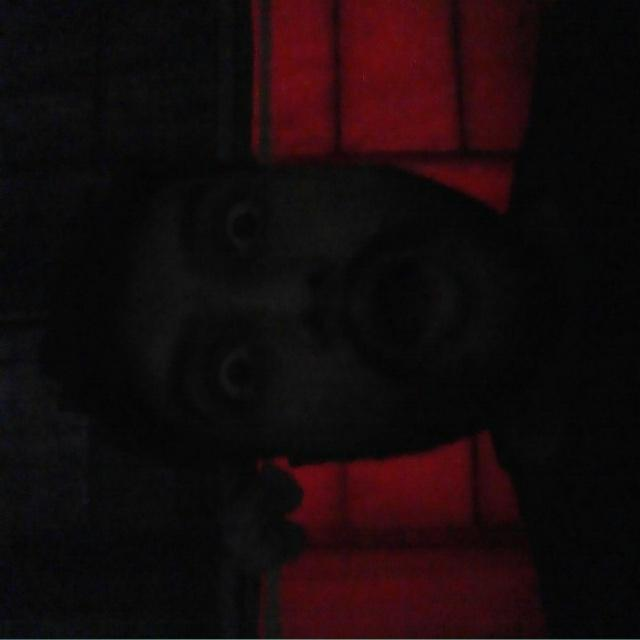Surprised: (80, 122, 537, 489)
